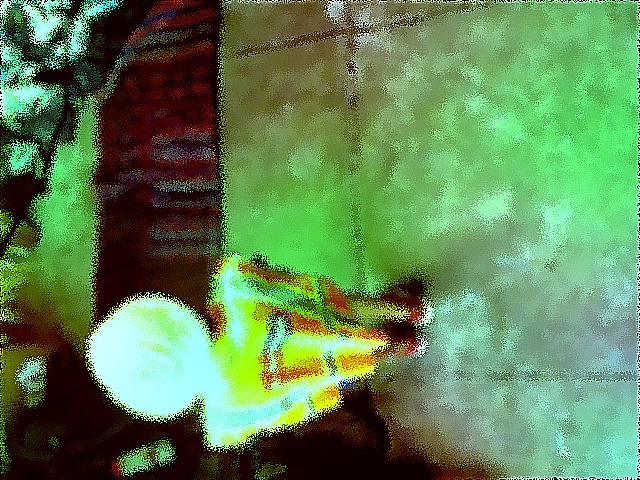eight: (133, 350, 180, 396)
